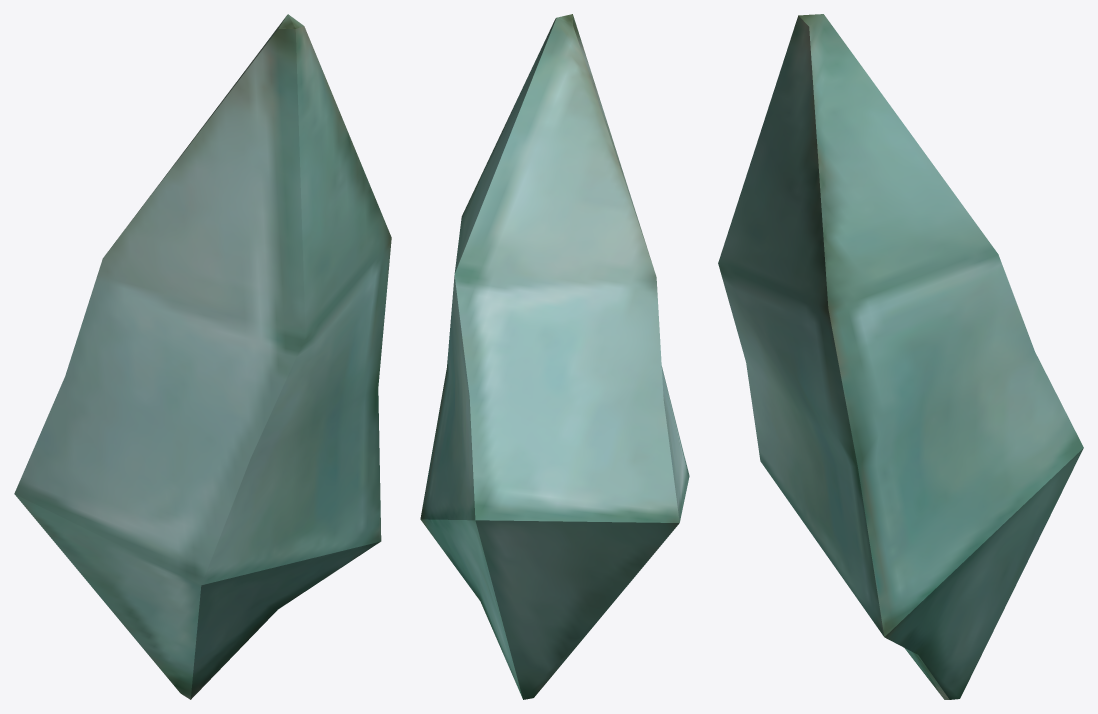
Rendered from Jewel_drop.FBX.
The picture shows the model from 3 angles, left to right: view 1: azimuth 30°, elevation 25°; view 2: azimuth 150°, elevation 25°; view 3: azimuth 270°, elevation 25°; orthographic projection. The views are drawn at different scales.
Visible parts, largest first — view 1: Jewel_drop; view 2: Jewel_drop; view 3: Jewel_drop.
Part boxes in pixels (<box>): Jewel_drop: <box>14,14,391,699</box>; Jewel_drop: <box>420,14,689,699</box>; Jewel_drop: <box>718,14,1083,699</box>.
Bounding box in the file's own units: 15.83 × 32.97 × 15.56.
